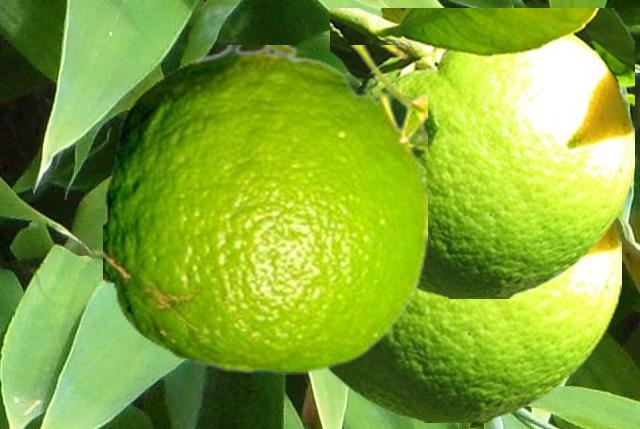dalandan: (103, 45, 426, 373), (330, 8, 633, 297), (325, 214, 620, 421)
